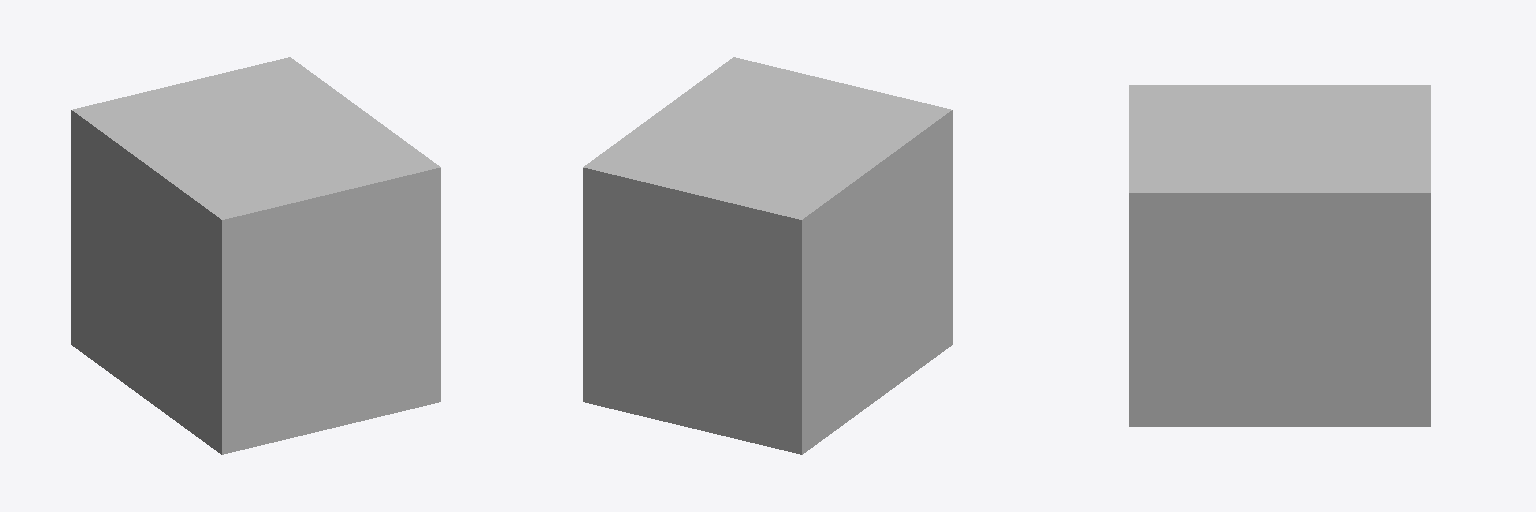
The model's file is cutCube.obj.
3 renders of one model, left to right at view 1: azimuth 30°, elevation 25°; view 2: azimuth 150°, elevation 25°; view 3: azimuth 270°, elevation 25°, orthographic.
Size of the model in its own units: 2.05 by 2.1 by 2.44.